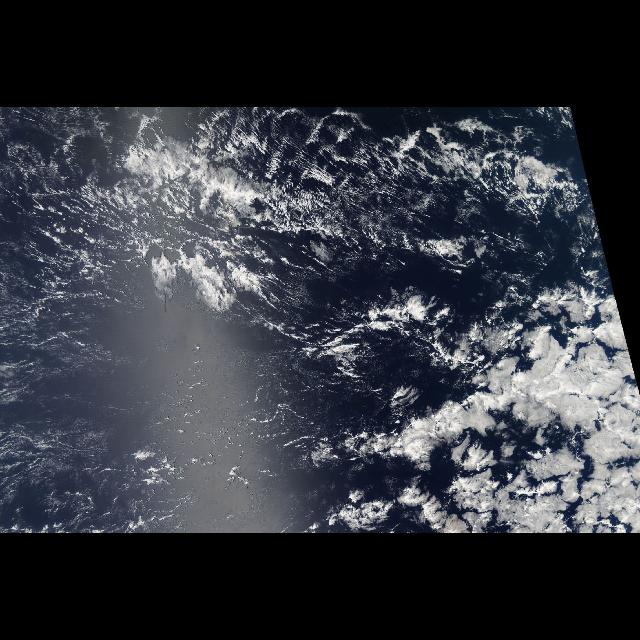Flower: (358, 273, 640, 533)
Gravel: (9, 108, 594, 312)
Sugar: (0, 286, 282, 534)
